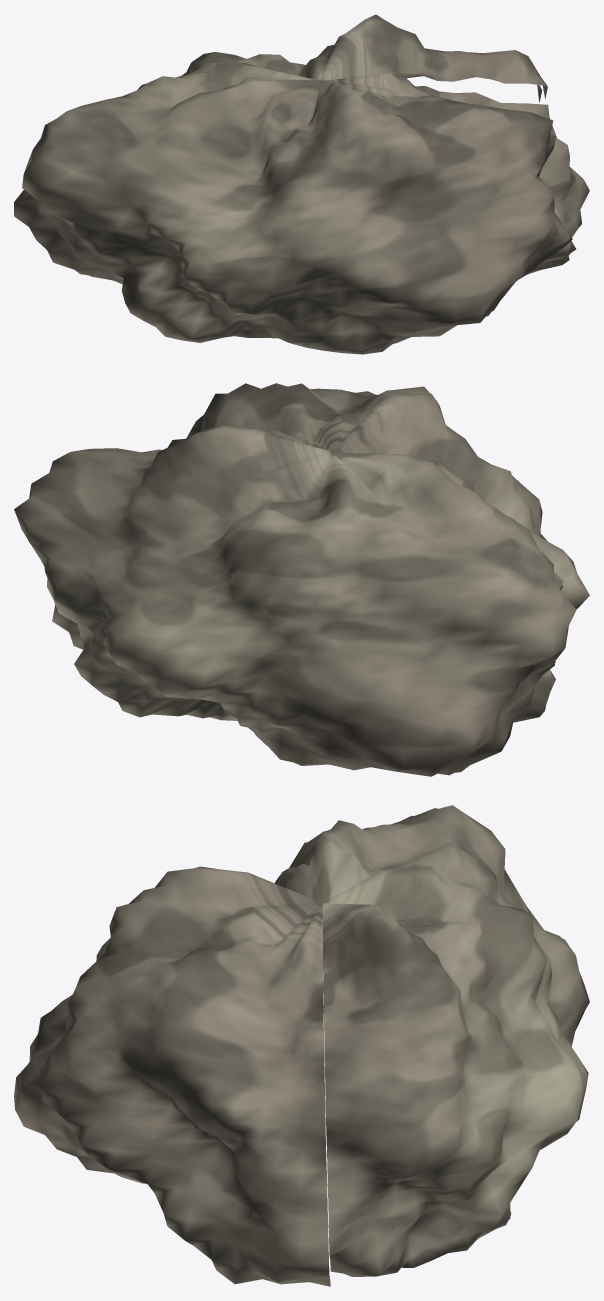
The model's file is reef_rock_v2_a.glb.
3 views of the same model, one above another, from view 1: azimuth 30°, elevation 25°; view 2: azimuth 150°, elevation 25°; view 3: azimuth 270°, elevation 25° (orthographic). The views are drawn at different scales.
Parts seen in each view (by area): view 1: world; view 2: world; view 3: world.
Boxes of the visible parts, x1=… form: world: x1=14, y1=14, x2=589, y2=354; world: x1=14, y1=383, x2=589, y2=776; world: x1=14, y1=805, x2=589, y2=1286.
Bounding box in the file's own units: 2.84 × 1.23 × 2.26.
Materials: 1 (1 with a texture image).
